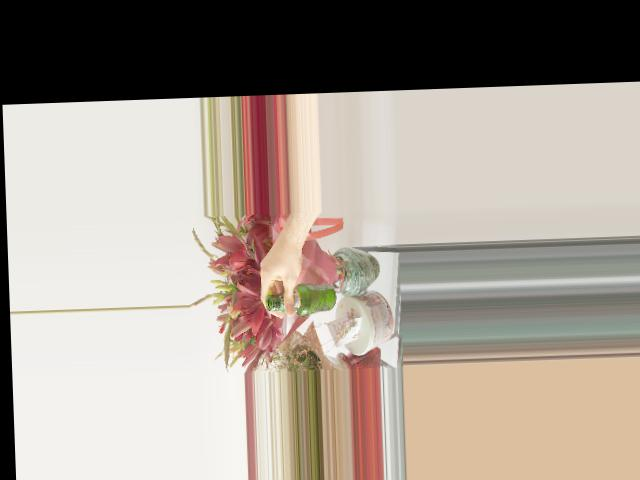beer: (265, 283, 337, 317)
